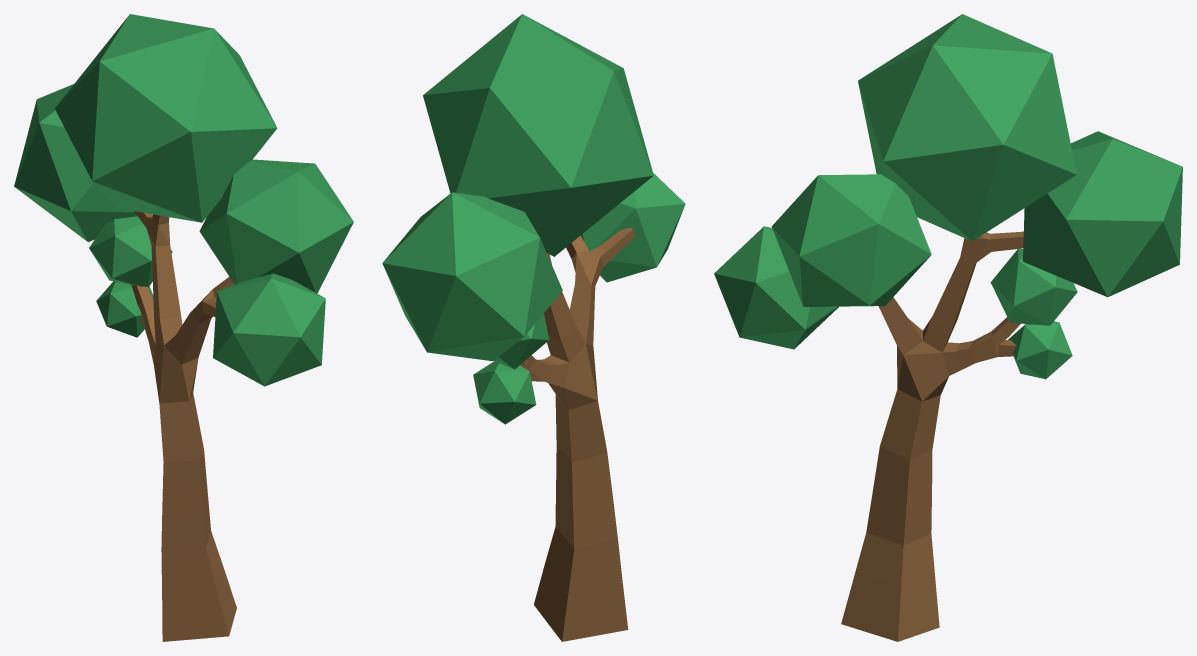
Rendered from Tree.fbx.
The picture shows the model from 3 angles, left to right: view 1: azimuth 30°, elevation 25°; view 2: azimuth 150°, elevation 25°; view 3: azimuth 270°, elevation 25°; orthographic projection. The views are drawn at different scales.
Visible parts, largest first — view 1: Cube; view 2: Cube; view 3: Cube.
Part boxes in pixels (bbox=[...]): Cube: bbox=[14, 14, 353, 641]; Cube: bbox=[382, 14, 685, 641]; Cube: bbox=[714, 14, 1182, 641].
Size of the model in its own units: 306 by 823 by 580.
